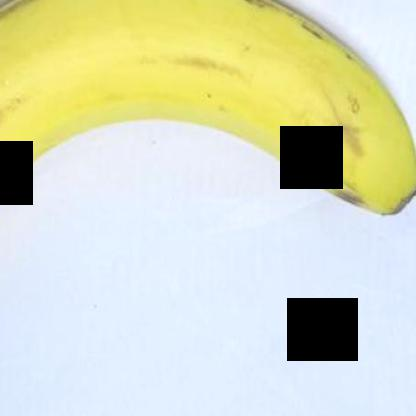freshripe: (1, 1, 415, 263)
